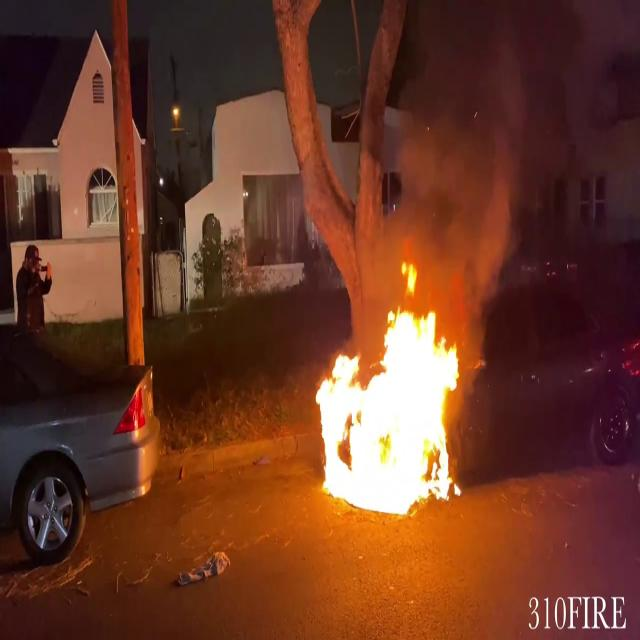Fire: (308, 266, 472, 522)
Smoke: (347, 1, 567, 323)
